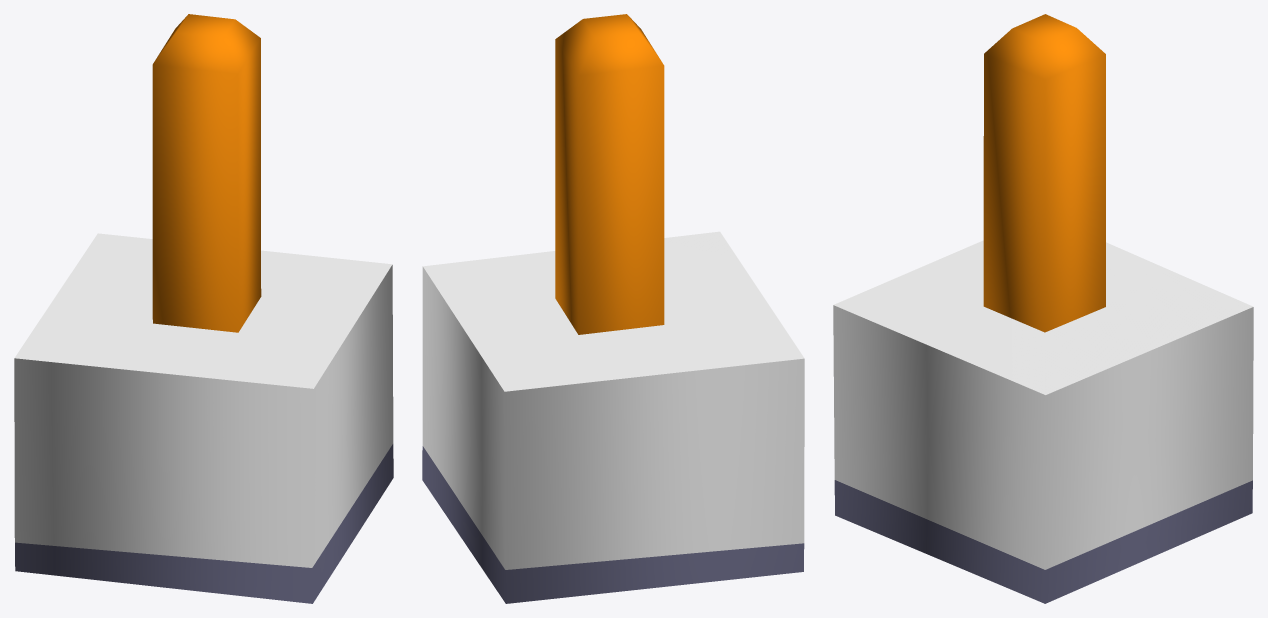
File: Forearm.obj
3 views of the same model, side by side, from view 1: azimuth 30°, elevation 25°; view 2: azimuth 150°, elevation 25°; view 3: azimuth 270°, elevation 25° (orthographic). The views are drawn at different scales.
Size of the model in its own units: 0.8759 by 1.1 by 0.859.
3 materials, 3 textured.
